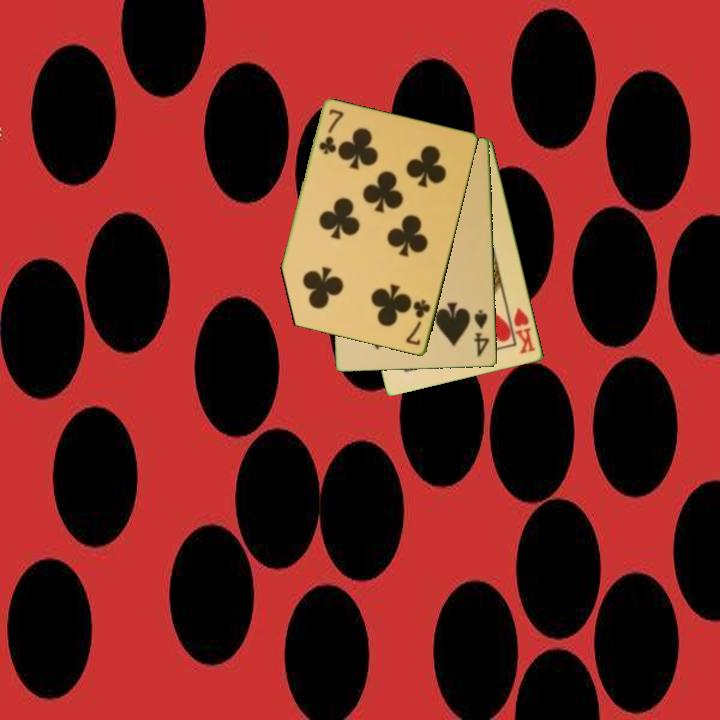4s: (471, 307, 493, 360)
7c: (403, 296, 433, 349), (315, 106, 345, 158)
Kh: (505, 304, 539, 357)
